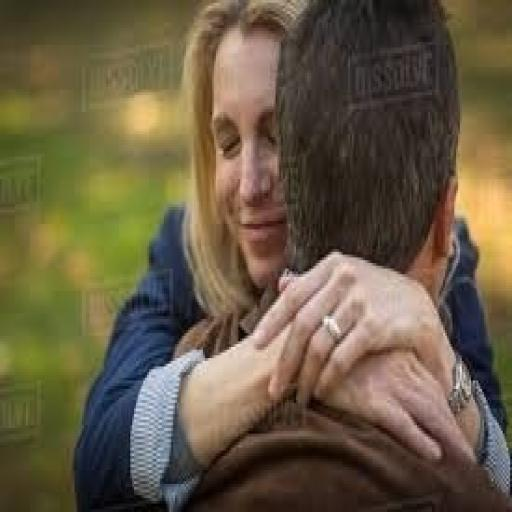hugging: (71, 0, 510, 509)
